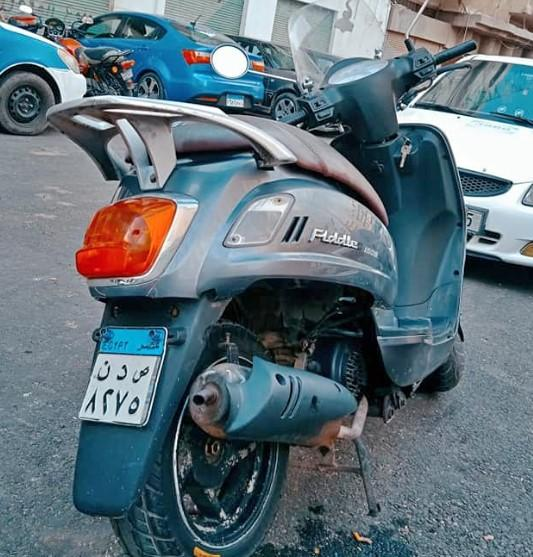License Plate: (77, 325, 166, 425)
